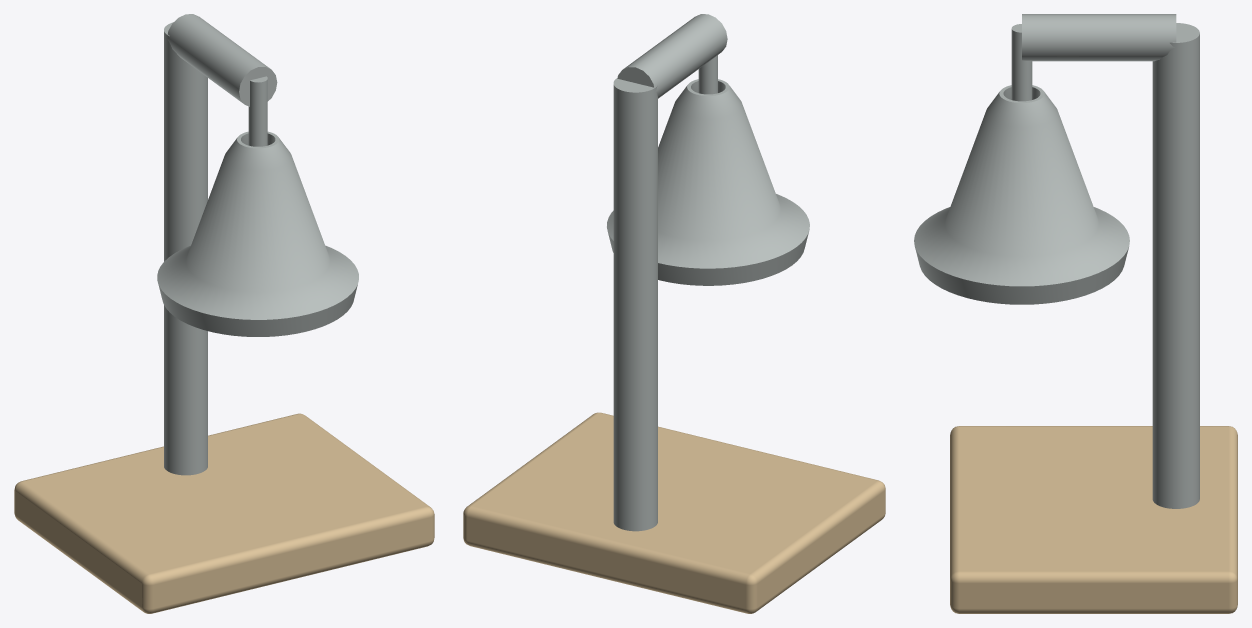
File: cricket-ground-and-pavilion-innings-bell-d4663841__31353.glb
3 views of the same model, side by side, from view 1: azimuth 30°, elevation 25°; view 2: azimuth 150°, elevation 25°; view 3: azimuth 270°, elevation 25° (orthographic). The views are drawn at different scales.
Parts seen in each view (by area): view 1: innings-bell; view 2: innings-bell; view 3: innings-bell.
Part boxes in pixels (x1,y1,x2,y2): innings-bell: [14, 14, 434, 613]; innings-bell: [463, 14, 885, 613]; innings-bell: [914, 14, 1237, 613].
Size of the model in its own units: 0.35 by 0.563 by 0.315.
